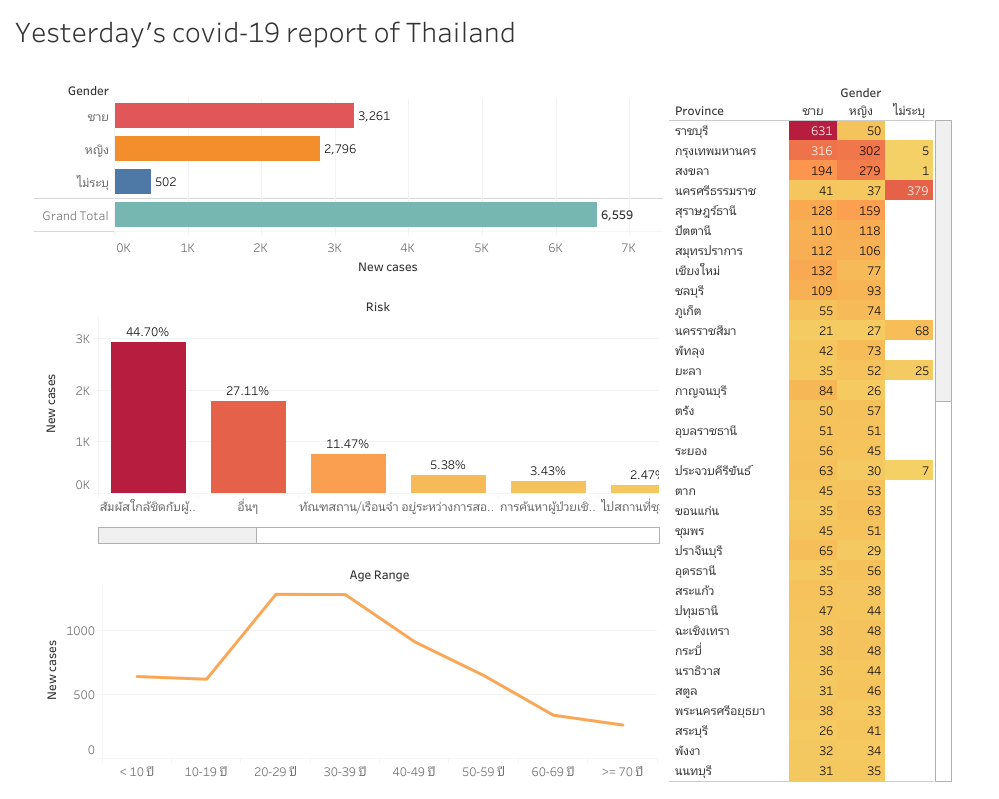

The dashboard page shown, as its layout file describes it:
{"tool":"tableau","page":{"name":"Dashboard 1","canvas":[1000,800],"ordinal":0},"visuals":[{"type":"title","box":[8,8,984,46]},{"type":"worksheet","title":"Sheet 1","mark":"Automatic","rows":["age_number"],"cols":["age_number"],"box":[34,67,628,209]},{"type":"worksheet","title":"Sheet 2","mark":"Square","rows":["F10"],"cols":["age_number"],"box":[669,68,288,714]},{"type":"worksheet","title":"Sheet 3","mark":"Bar","rows":["patient_type"],"cols":["patient_type"],"box":[34,281,625,263]},{"type":"worksheet","title":"Sheet 4","mark":"Line","rows":["nationality"],"cols":["nationality"],"box":[35,549,622,231]}]}

Visuals, with their boxes in screenshot pixels (x1, y1, x2, y2), scaled from the page's 1000x800 canvas onto the 999x799 screenshot:
title: box=[8, 8, 991, 54]
"Sheet 1" worksheet: box=[34, 67, 661, 276]
"Sheet 2" worksheet (Square marks): box=[668, 68, 956, 781]
"Sheet 3" worksheet (Bar marks): box=[34, 281, 658, 543]
"Sheet 4" worksheet (Line marks): box=[35, 548, 656, 779]
